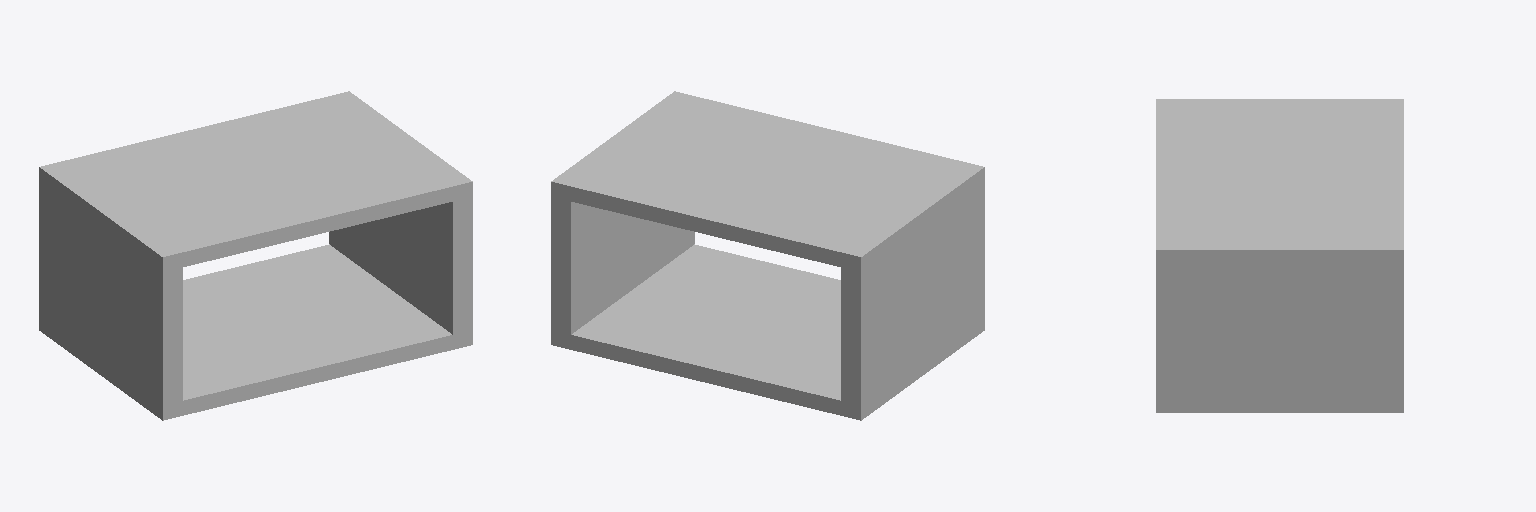
The model's file is Copper Box.obj.
3 renders of one model, left to right at view 1: azimuth 30°, elevation 25°; view 2: azimuth 150°, elevation 25°; view 3: azimuth 270°, elevation 25°, orthographic.
Parts seen in each view (by area): view 1: Object.1; view 2: Object.1; view 3: Object.1.
Part boxes in pixels (x1,y1,x2,y2): Object.1: (39, 91, 472, 420); Object.1: (551, 91, 984, 420); Object.1: (1156, 99, 1403, 412).
Size of the model in its own units: 368 by 185 by 254.